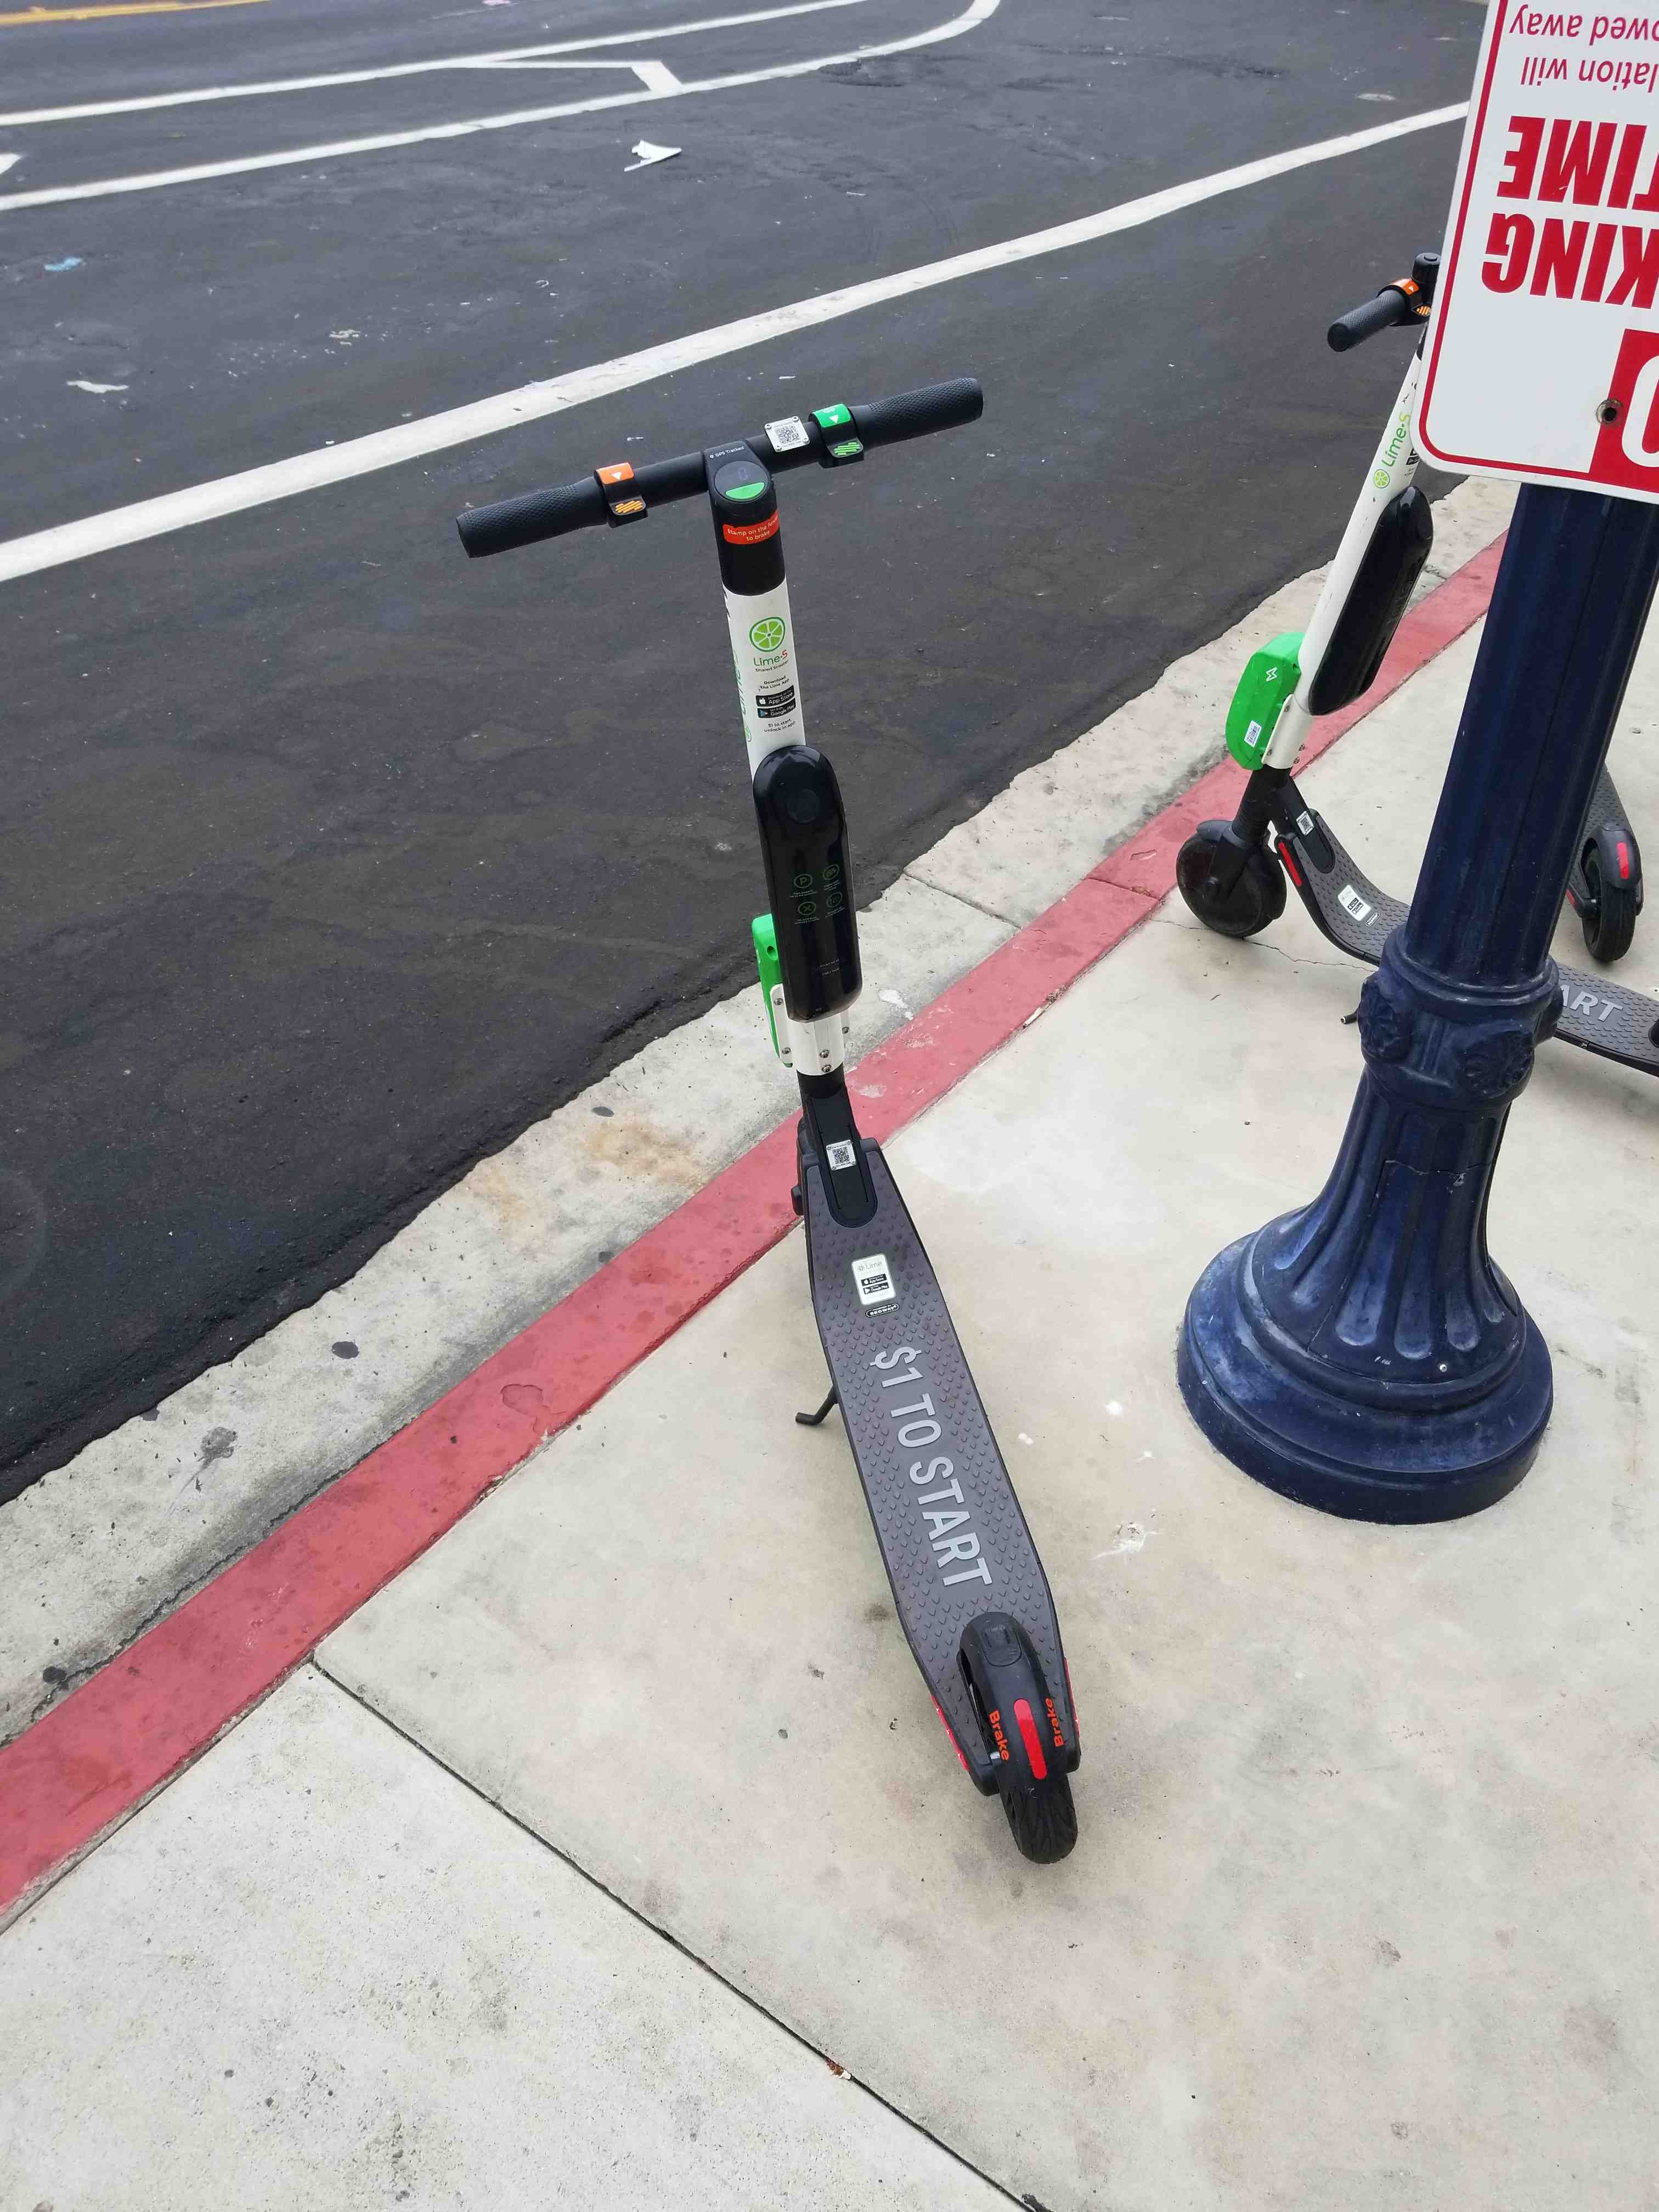scooter: (448, 385, 1161, 1904), (1175, 233, 1659, 1089)
